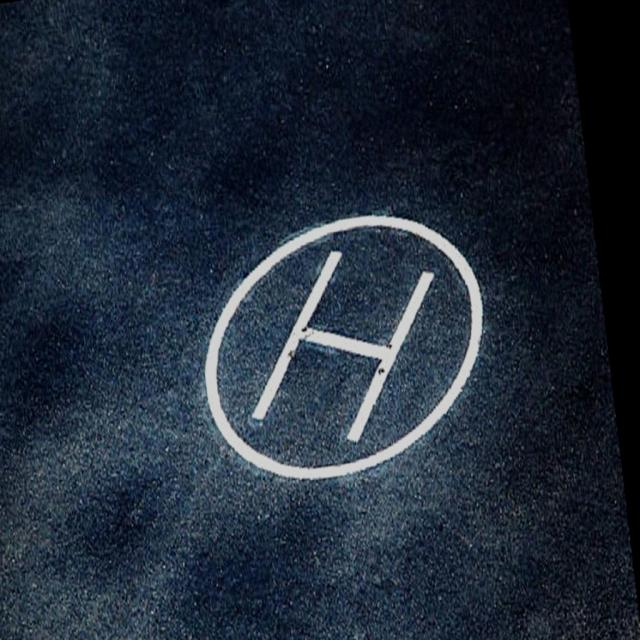helipad: (199, 208, 489, 489)
